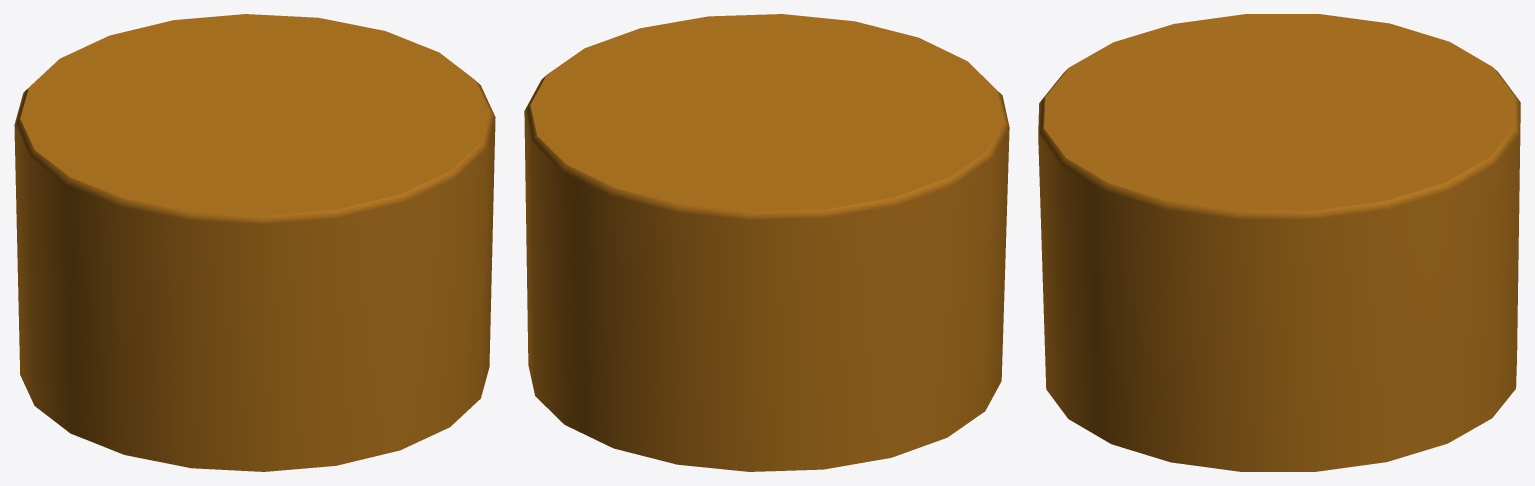
Rendered from Screw_Base.fbx.
3 views of the same model, side by side, from view 1: azimuth 30°, elevation 25°; view 2: azimuth 150°, elevation 25°; view 3: azimuth 270°, elevation 25° (orthographic).
Parts seen in each view (by area): view 1: Screw_Base; view 2: Screw_Base; view 3: Screw_Base.
Boxes of the visible parts, box(x1,y1,x2,y2) form: Screw_Base: box(14, 14, 495, 471); Screw_Base: box(524, 14, 1009, 471); Screw_Base: box(1038, 14, 1520, 471).
Bounding box in the file's own units: 0.6938 × 0.4188 × 0.6938.
